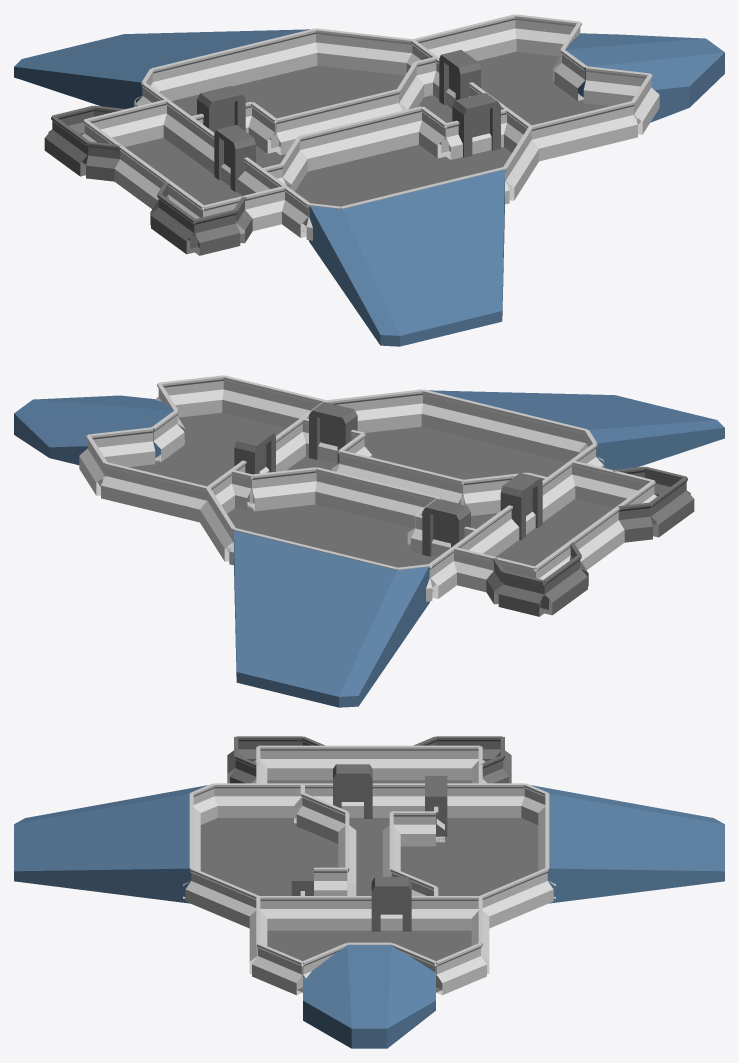
Rendered from layout03_blockout.fbx.
3 renders of one model, top to bottom at view 1: azimuth 30°, elevation 25°; view 2: azimuth 150°, elevation 25°; view 3: azimuth 270°, elevation 25°, orthographic. The views are drawn at different scales.
Visible parts, largest first — view 1: pasted__G_blockout02_pasted__pCube37_pasted__pCube37, pPlane14, pasted__pCube39, wall_diag03, door04, wall_diag06, wall_diag07, door01, door03, wall050, door02, wall037 (+42 smaller); view 2: pasted__G_blockout02_pasted__pCube37_pasted__pCube37, pPlane14, pasted__pCube39, wall_diag01, wall_diag05, door04, wall_diag08, door03, door01, wall049, wall030, wall036 (+41 smaller); view 3: pasted__G_blockout02_pasted__pCube37_pasted__pCube37, pPlane14, pasted__pCube39, door02, wall_diag05, wall_diag06, door01, wall_diag04, wall_diag03, wall_diag02, wall014, wall022 (+27 smaller).
Part boxes in pixels (x1,y1,x2,y2): pasted__G_blockout02_pasted__pCube37_pasted__pCube37: (14,29,504,346); pPlane14: (80,51,640,251); pasted__pCube39: (565,33,724,122); wall_diag03: (345,32,412,75); door04: (452,93,500,157); wall_diag06: (515,14,580,56); wall_diag07: (583,66,651,106); door01: (214,125,255,192); door03: (197,86,245,132); wall050: (190,210,240,255); door02: (439,50,480,104); wall037: (571,106,617,151); pasted__G_blockout02_pasted__pCube37_pasted__pCube37: (234,390,724,707); pPlane14: (97,412,658,611); pasted__pCube39: (14,395,173,465); wall_diag01: (249,467,316,511); wall_diag05: (158,375,223,417); door04: (309,402,357,463); wall_diag08: (87,427,155,467); door03: (422,498,470,556); door01: (500,473,542,540); wall049: (498,571,548,616); wall030: (500,409,546,455); wall036: (121,467,167,512); pasted__G_blockout02_pasted__pCube37_pasted__pCube37: (14,785,724,903); pPlane14: (200,780,538,992); pasted__pCube39: (303,945,435,1048); door02: (371,877,411,931); wall_diag05: (252,943,304,995); wall_diag06: (434,943,486,995); door01: (333,764,372,818); wall_diag04: (296,793,353,843); wall_diag03: (480,877,531,928); wall_diag02: (207,877,258,928); wall014: (303,896,347,930); wall022: (391,745,435,780).
Size of the model in its own units: 29.3 by 3.6 by 32.
